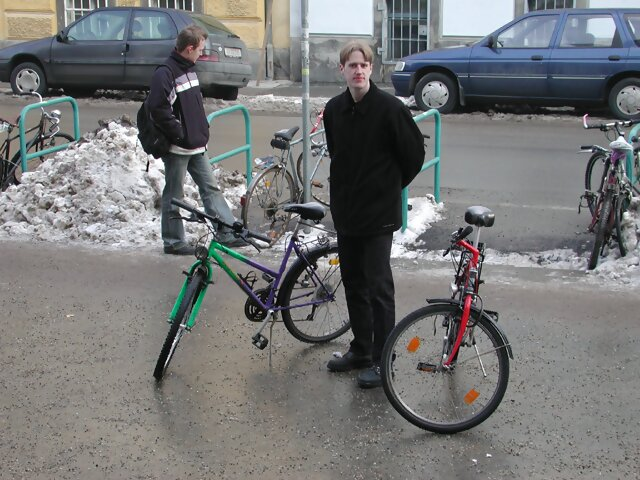person: (315, 37, 429, 391), (144, 21, 256, 261)
